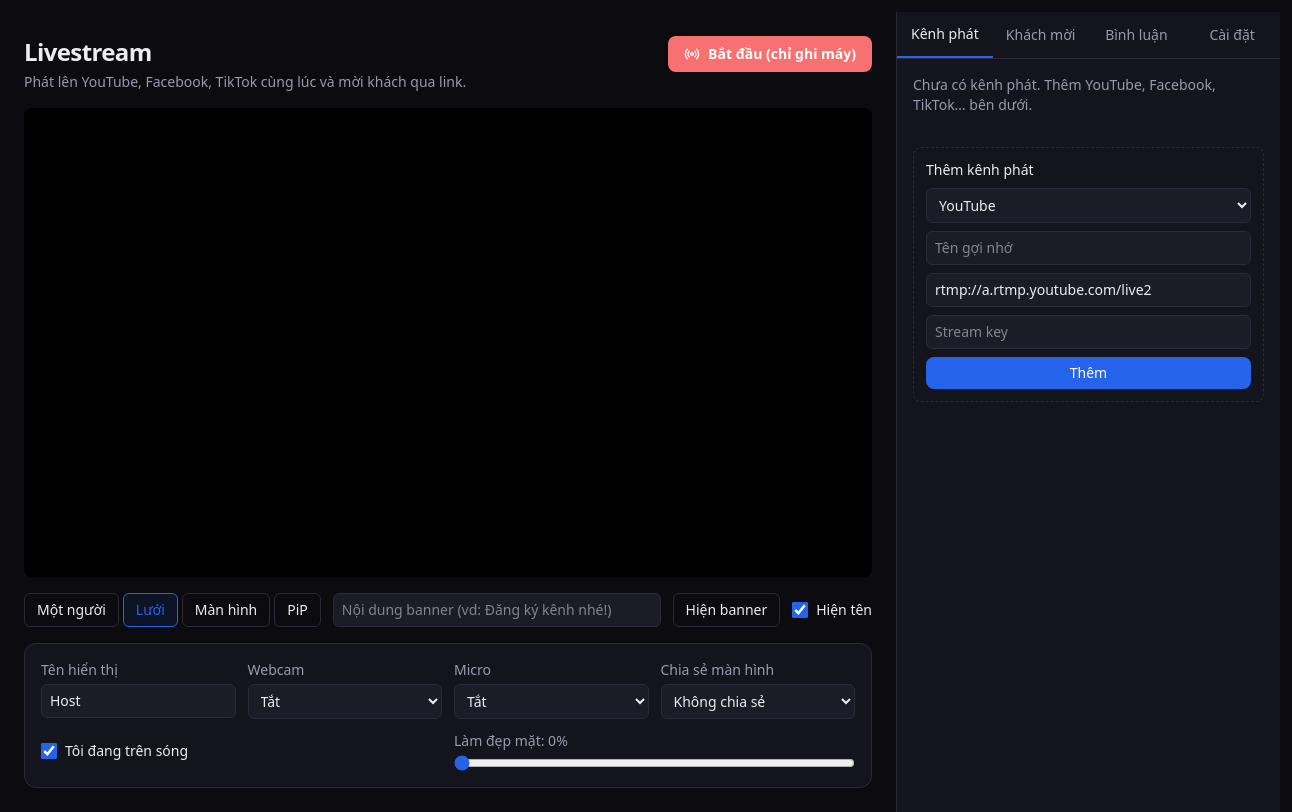
Test: LivePage › từ chối địa chỉ máy chủ không phải RTMP
Select "RTMP tùy chỉnh" in the dropdown with test id "dest-platform". click: (1088, 206)
box: [926,188,1251,223]
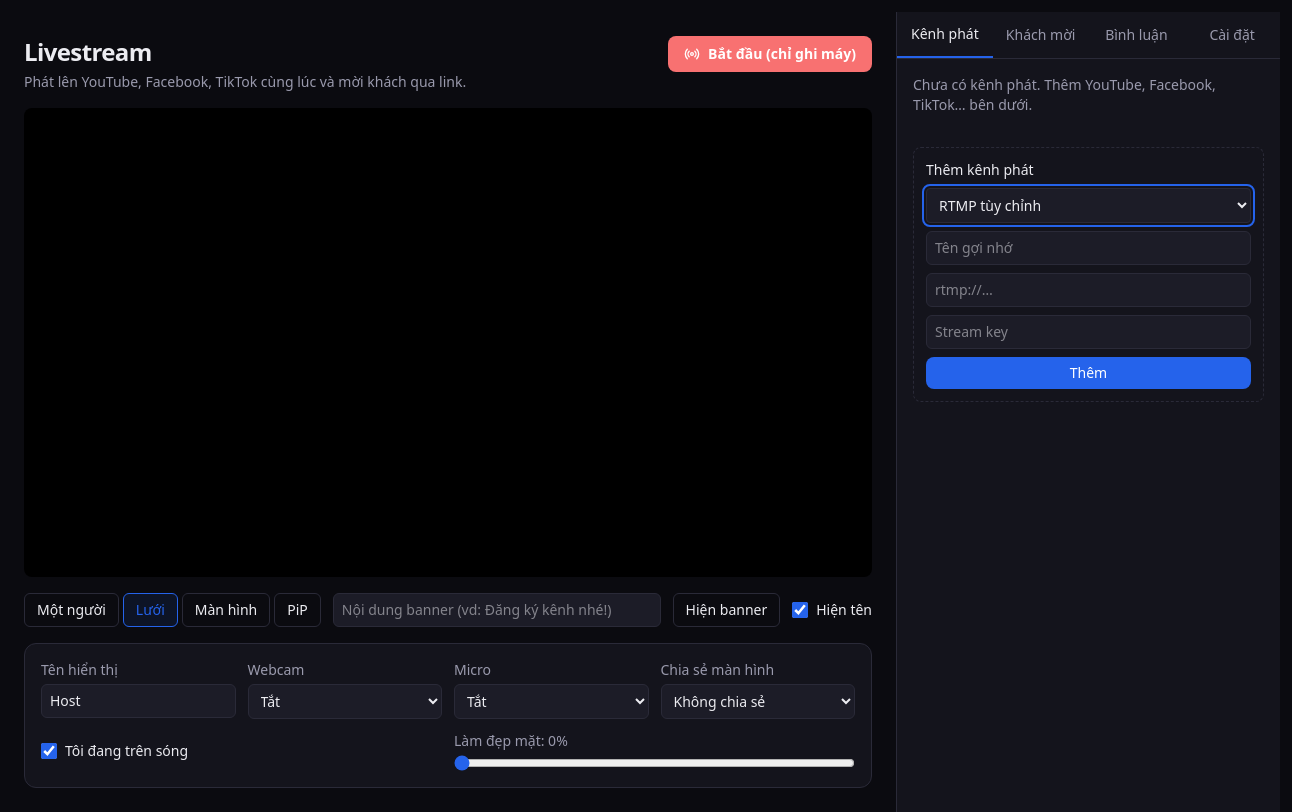
Type "http://example.com/live" into the field with test id "dest-server". click: (1088, 290)
box: [926,273,1251,307]
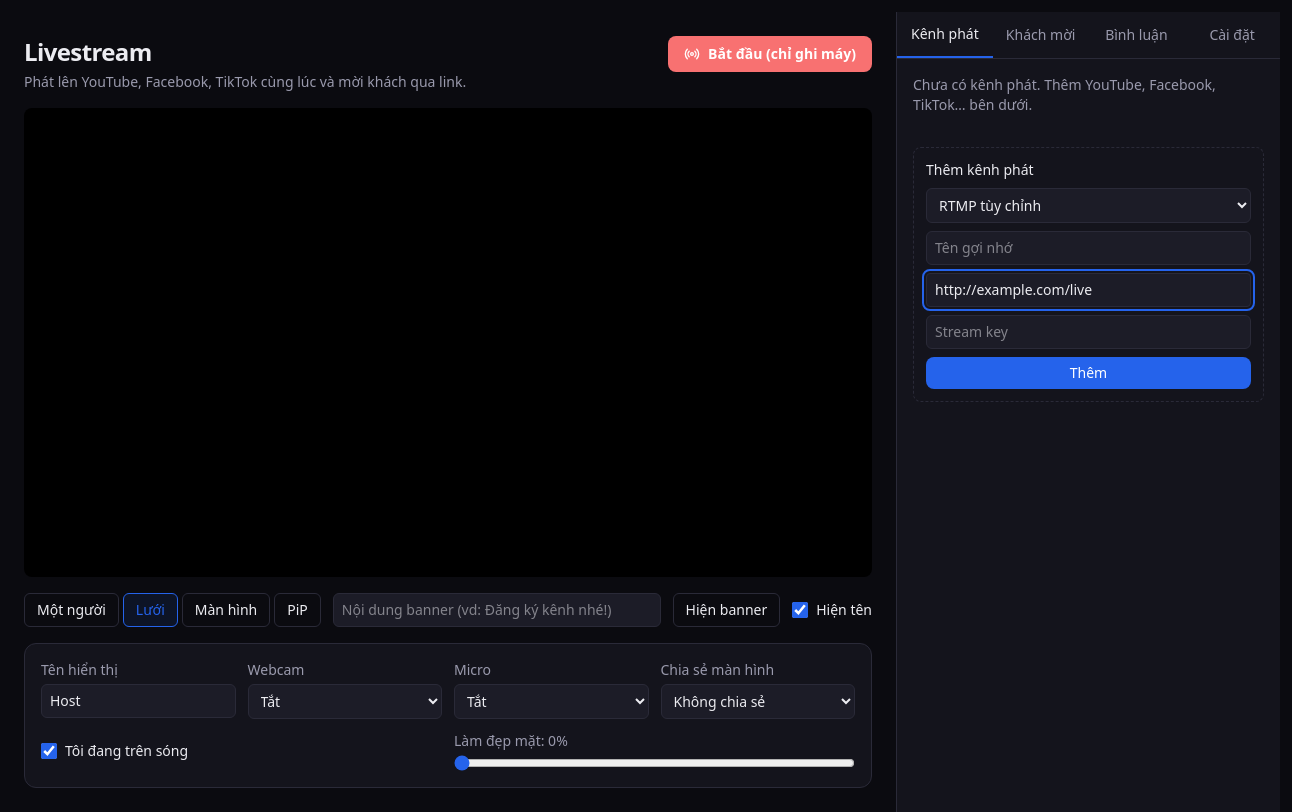
Click the button with test id "dest-add". click: (1088, 373)
box: [926,357,1251,389]
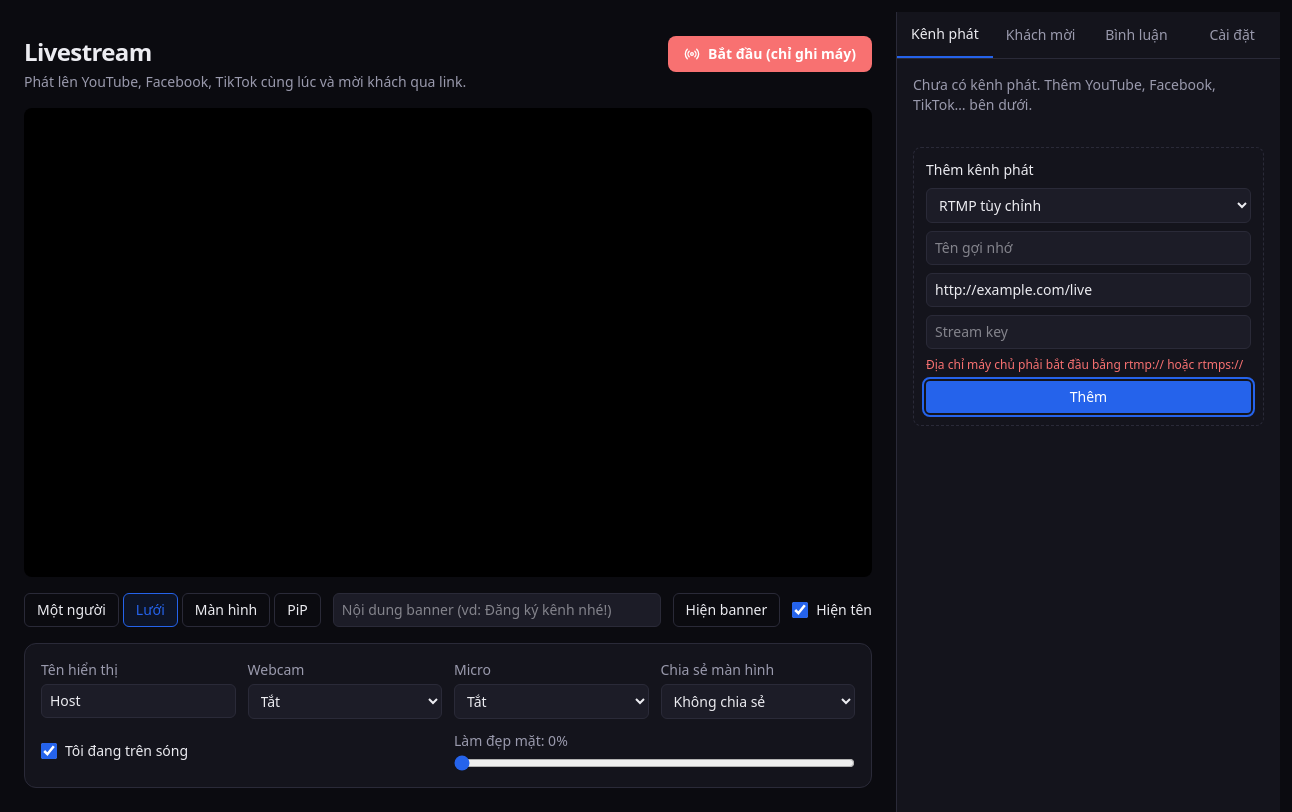
Expected: the text "Địa chỉ máy chủ phải bắt đầu bằng rtmp:// hoặc rtmps://" is shown, [926,357,1251,373]
